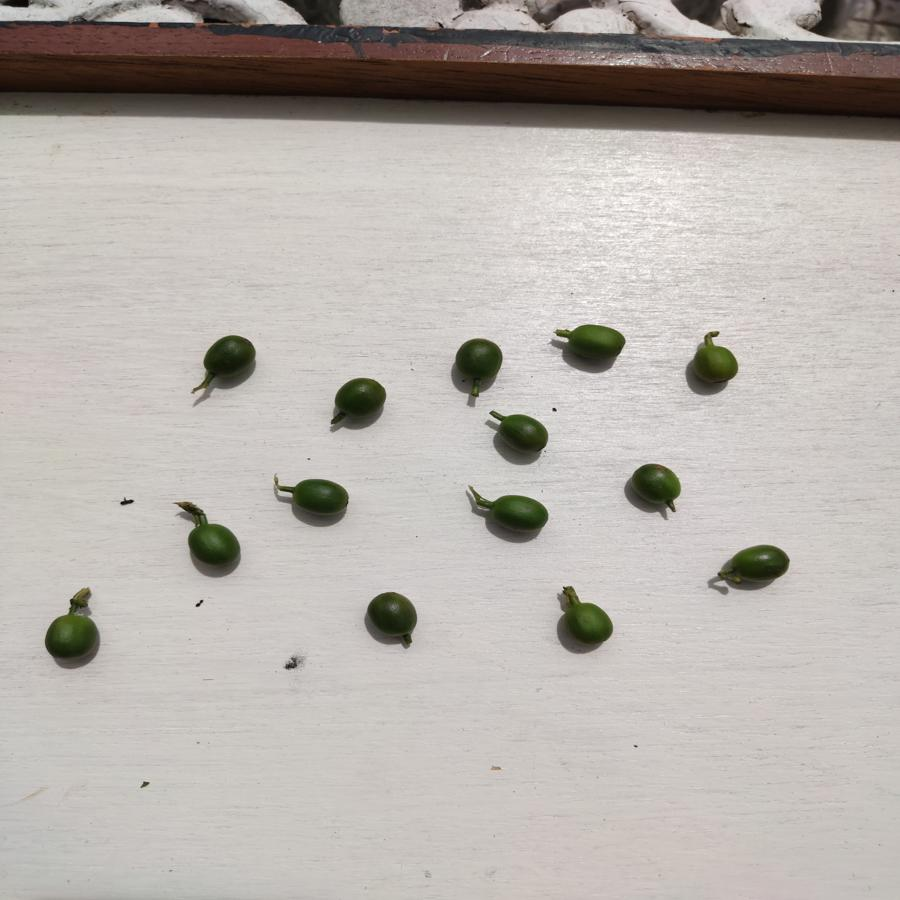Inmaduro: (453, 330, 506, 386), (186, 521, 244, 572), (42, 612, 101, 662), (360, 592, 418, 642), (628, 458, 682, 510), (491, 490, 549, 538), (497, 408, 552, 458), (566, 320, 627, 365), (684, 343, 740, 392), (732, 541, 792, 585), (202, 333, 258, 380), (290, 474, 350, 517), (334, 372, 386, 421), (562, 601, 615, 645)
